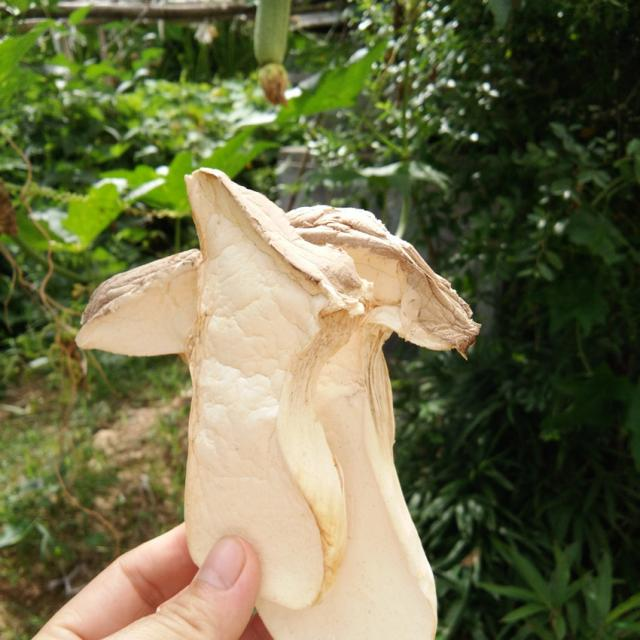Pleurotus eryngii: (153, 169, 478, 640)
